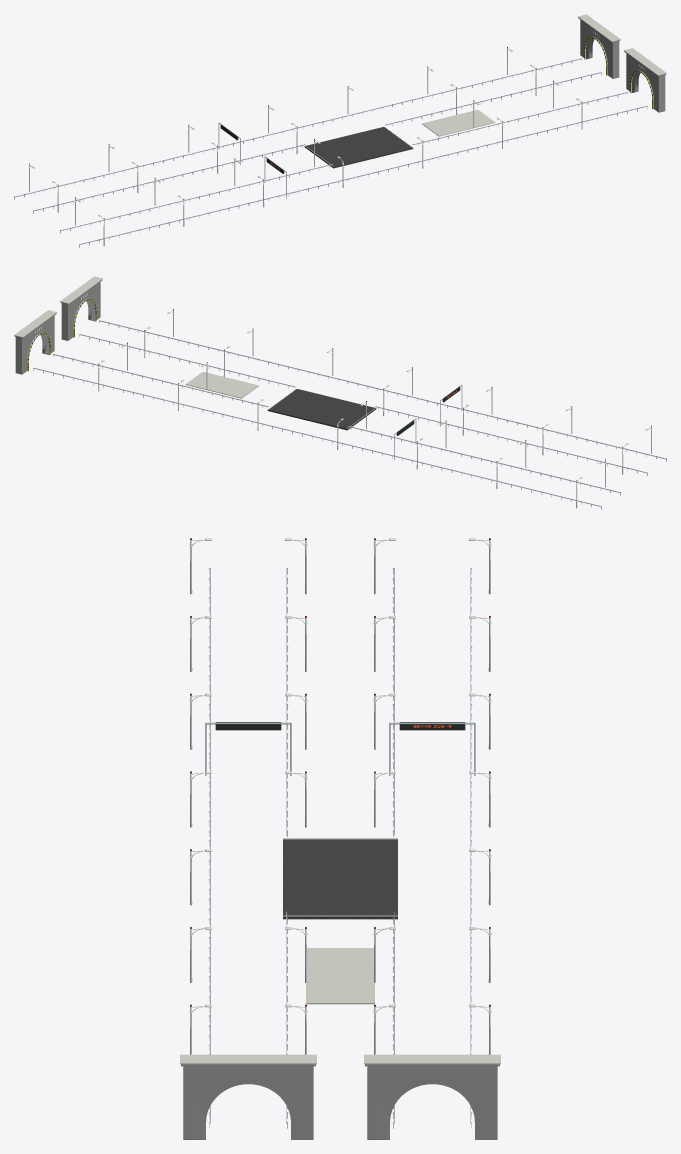
Rendered from portal-structures.glb.
3 views of the same model, one above another, from view 1: azimuth 30°, elevation 25°; view 2: azimuth 150°, elevation 25°; view 3: azimuth 270°, elevation 25° (orthographic). The views are drawn at different scales.
Visible parts, largest first — view 1: structures / Galvanised guardrail, Open median crossover, structures / Warm architectural concrete, structures / Limestone portal rim; view 2: structures / Galvanised guardrail, Open median crossover, structures / Warm architectural concrete, structures / Limestone portal rim; view 3: structures / Warm architectural concrete, Open median crossover, structures / Limestone portal rim, structures / Galvanised guardrail, structures / Anthracite board.
Part boxes in pixels (x1,y1,x2,y2): structures / Galvanised guardrail: (14, 58, 647, 247); Open median crossover: (304, 127, 413, 168); structures / Warm architectural concrete: (578, 17, 666, 112); structures / Limestone portal rim: (421, 14, 666, 136); structures / Galvanised guardrail: (33, 320, 666, 509); Open median crossover: (267, 389, 376, 430); structures / Warm architectural concrete: (14, 279, 102, 374); structures / Limestone portal rim: (14, 276, 259, 398); structures / Warm architectural concrete: (181, 1064, 499, 1139); Open median crossover: (283, 838, 397, 919); structures / Limestone portal rim: (180, 948, 500, 1064); structures / Galvanised guardrail: (205, 567, 475, 1128); structures / Anthracite board: (215, 722, 465, 730).
Size of the model in its own units: 175 by 11.28 by 41.9.
Materials: 14 (1 with a texture image).
